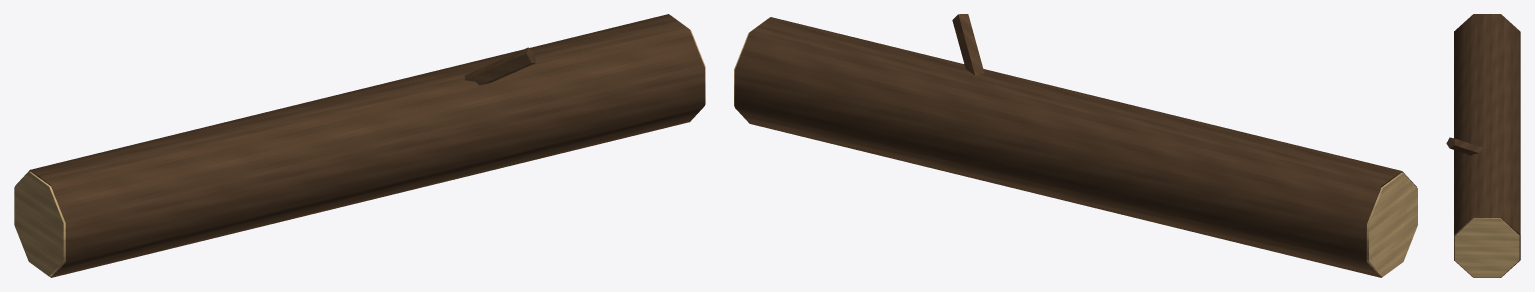
The model's file is tora_grande.glb.
3 renders of one model, left to right at view 1: azimuth 30°, elevation 25°; view 2: azimuth 150°, elevation 25°; view 3: azimuth 270°, elevation 25°, orthographic. The views are drawn at different scales.
Parts seen in each view (by area): view 1: Inteiro; view 2: Inteiro; view 3: Inteiro.
Part boxes in pixels (left/top/right/bottom): Inteiro: left=14, top=14, right=705, bottom=277; Inteiro: left=734, top=14, right=1417, bottom=277; Inteiro: left=1446, top=14, right=1520, bottom=277.
Bounding box in the file's own units: 4.02 × 0.7655 × 0.6168.
Materials: 1 (1 with a texture image).
